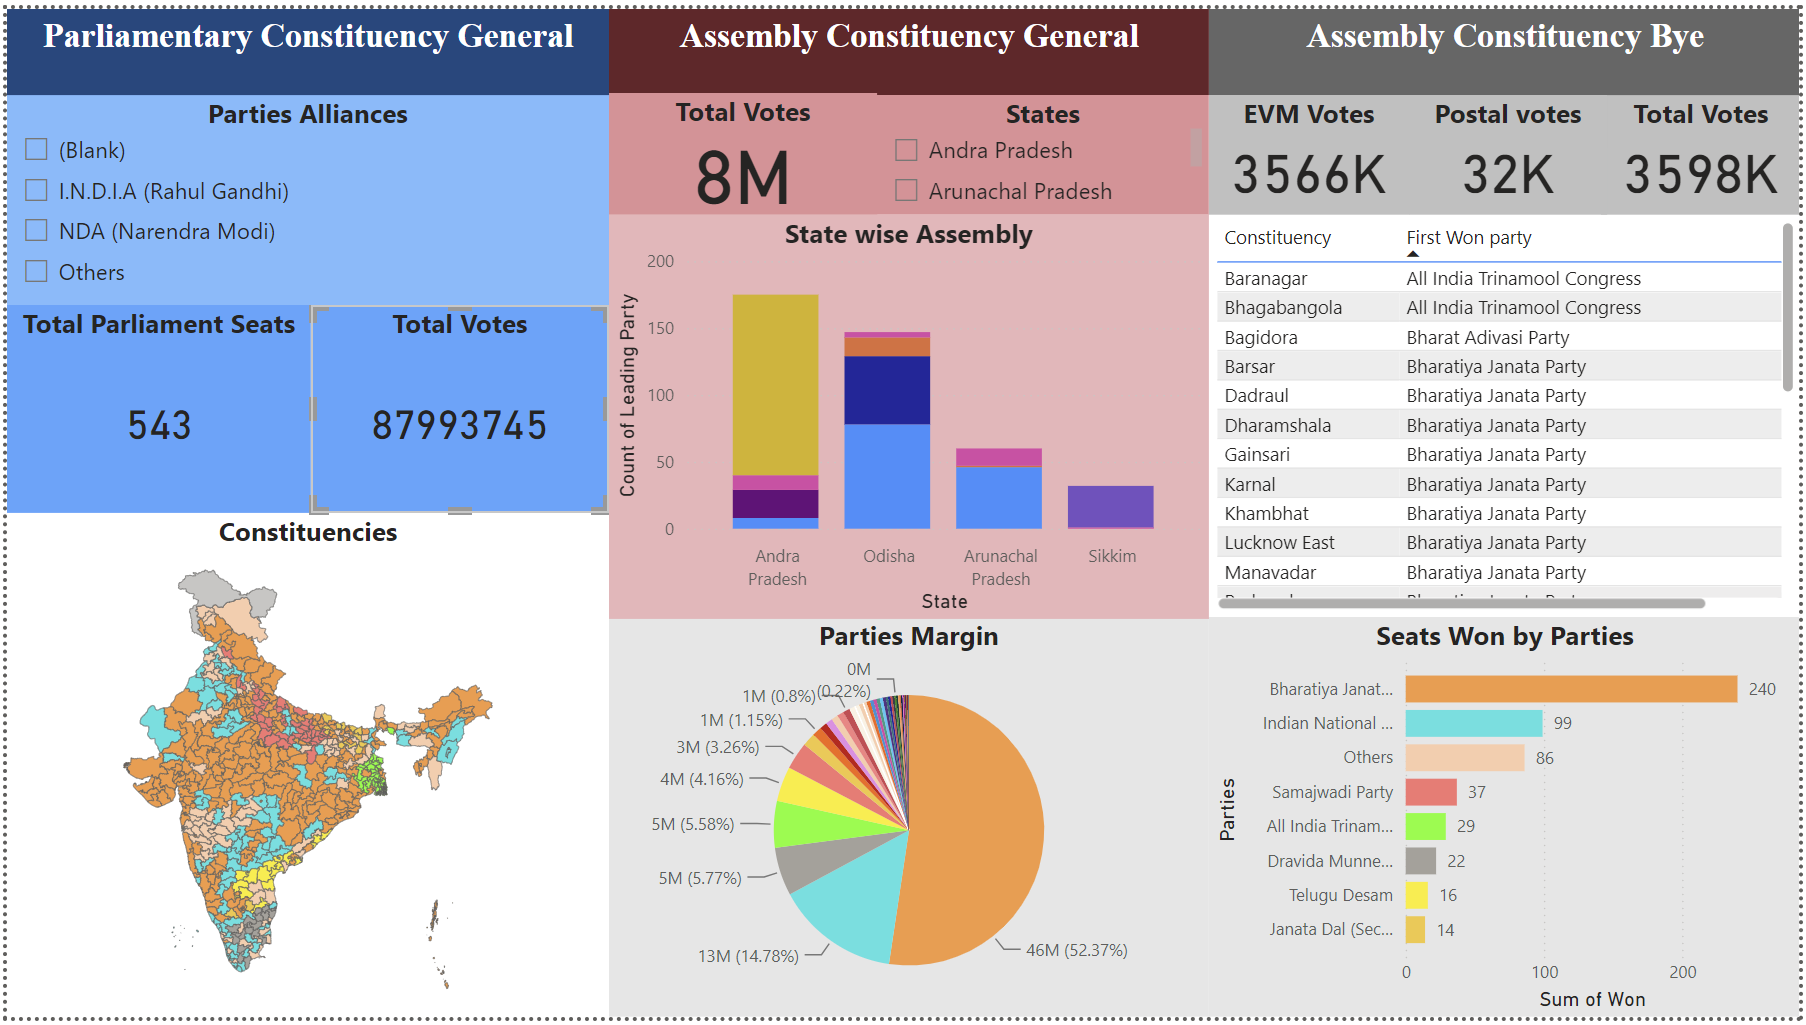

What the dashboard file says about the page in this screenshot:
{"tool":"powerbi","page":{"name":"Page 1","canvas":[1280,720],"ordinal":0},"visuals":[{"type":"shapeMap","title":"Constituencies","fields":{"Value":["Election Results.Margin"],"Category":["Election Results.Constituency"],"Series":["Election Results.Parties"]},"box":[0,360,430,361.4],"z":0},{"type":"card","title":"Total Parliament Seats","fields":{"Values":["Election Results.Won"]},"box":[0,211.4,217.1,148.6],"z":3000},{"type":"card","title":"Total Votes","fields":{"Values":["Election Results.Margin"]},"box":[217.1,211.4,212.9,148.6],"z":4000},{"type":"clusteredBarChart","title":"Seats Won by Parties","fields":{"Category":["Election Results.Parties"],"Y":["Election Results.Won"]},"box":[858.6,434.3,422.9,285.7],"z":5000},{"type":"slicer","title":"Parties Alliances","fields":{"Values":["Election Results.Parties Alliance"]},"box":[0,61.4,430,150],"z":6000},{"type":"textbox","box":[0,0,430,61.4],"z":7000},{"type":"pieChart","title":"Parties Margin","fields":{"Category":["Election Results.Leading Party"],"Y":["Election Results.Margin"]},"box":[430,434.3,428.6,285.7],"z":7001},{"type":"tableEx","fields":{"Values":["Bye Elections.Constituency","Bye Elections.Won party"]},"box":[858.6,147.1,422.9,287.1],"z":7003},{"type":"card","title":"Total Votes","fields":{"Values":["Bye Elections.Total Votes"]},"box":[1138.6,61.4,142.9,85.7],"z":7004},{"type":"textbox","box":[858.6,0,422.9,61.4],"z":7005},{"type":"card","title":"Postal votes","fields":{"Values":["Bye Elections.Postal Votes"]},"box":[1001.4,61.4,141.4,85.7],"z":7006},{"type":"card","title":"EVM Votes","fields":{"Values":["Bye Elections.EVM Votes"]},"box":[858.6,61.4,142.9,85.7],"z":7007},{"type":"textbox","box":[430,0,428.6,61.4],"z":7008},{"type":"columnChart","title":"State wise Assembly","fields":{"Category":["Regular Elections.State"],"Series":["Regular Elections.Party"],"Y":["Regular Elections.Leading Party"]},"box":[430,147.1,428.6,288.6],"z":7009},{"type":"card","title":"Total Votes","fields":{"Values":["Regular Elections.Margin"]},"box":[430,60,191.4,87.1],"z":7010},{"type":"slicer","title":"States","fields":{"Values":["Regular Elections.State"]},"box":[621.4,61.4,237.1,85.7],"z":7011}]}

Visuals, with their boxes in screenshot pixels (x1, y1, x2, y2), scaled from the page's 1280x720 canvas onto the 1806x1025 screenshot:
"Constituencies" shapeMap: (0, 512, 607, 1024)
"Total Parliament Seats" card: (0, 301, 306, 512)
"Total Votes" card: (306, 301, 607, 512)
"Seats Won by Parties" clusteredBarChart: (1211, 618, 1805, 1024)
"Parties Alliances" slicer: (0, 87, 607, 301)
textbox: (0, 0, 607, 87)
"Parties Margin" pieChart: (607, 618, 1211, 1024)
tableEx - Bye Elections.Constituency x Bye Elections.Won party: (1211, 209, 1805, 618)
"Total Votes" card: (1606, 87, 1805, 209)
textbox: (1211, 0, 1805, 87)
"Postal votes" card: (1413, 87, 1612, 209)
"EVM Votes" card: (1211, 87, 1413, 209)
textbox: (607, 0, 1211, 87)
"State wise Assembly" columnChart: (607, 209, 1211, 620)
"Total Votes" card: (607, 85, 877, 209)
"States" slicer: (877, 87, 1211, 209)
